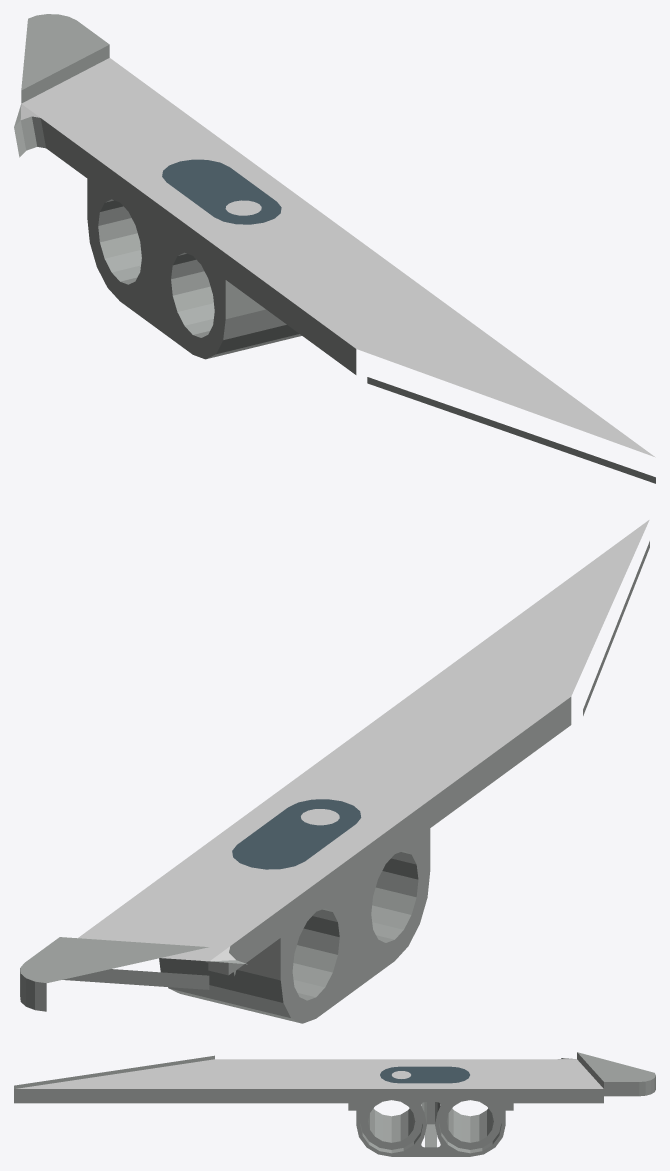
The picture shows the model from 3 angles, top to bottom: view 1: azimuth 30°, elevation 25°; view 2: azimuth 150°, elevation 25°; view 3: azimuth 270°, elevation 25°; orthographic projection. The views are drawn at different scales.
Parts seen in each view (by area): view 1: world; view 2: world; view 3: world.
Part boxes in pixels (x1,y1,x2,y2): world: (14, 14, 655, 483); world: (20, 520, 649, 1023); world: (14, 1052, 655, 1156).
Size of the model in its own units: 0.00857 by 0.0084 by 0.0653.
